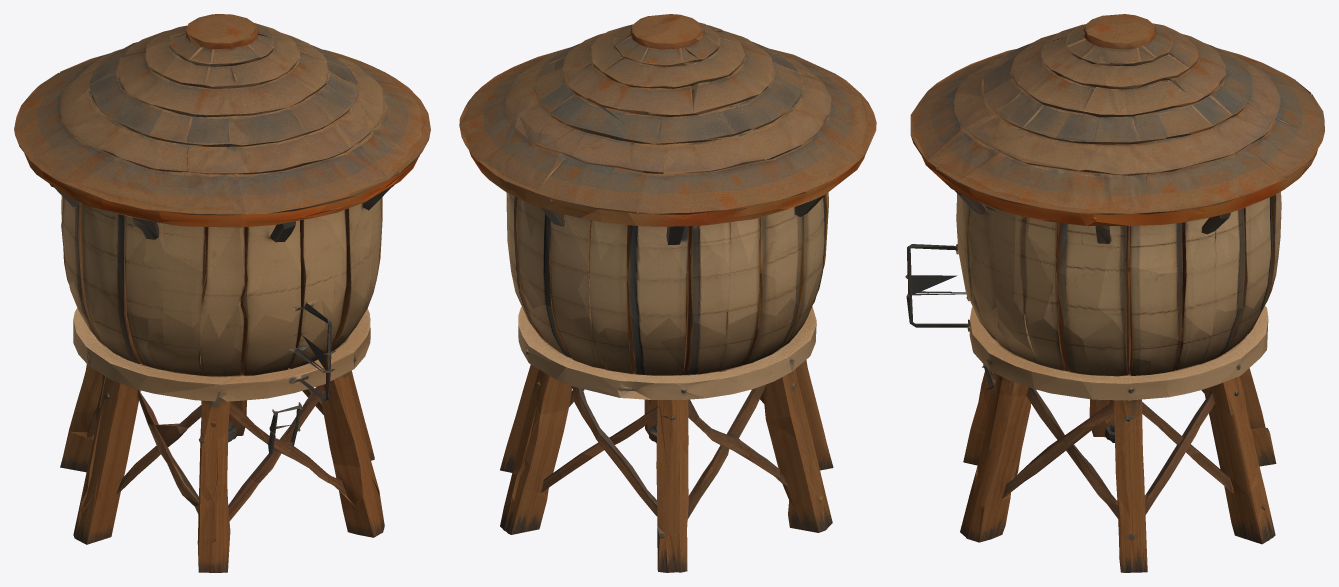
File: water_tower.glb
3 renders of one model, left to right at view 1: azimuth 30°, elevation 25°; view 2: azimuth 150°, elevation 25°; view 3: azimuth 270°, elevation 25°, orthographic.
Size of the model in its own units: 1.51 by 1.9 by 1.53.
1 material, 1 textured.
